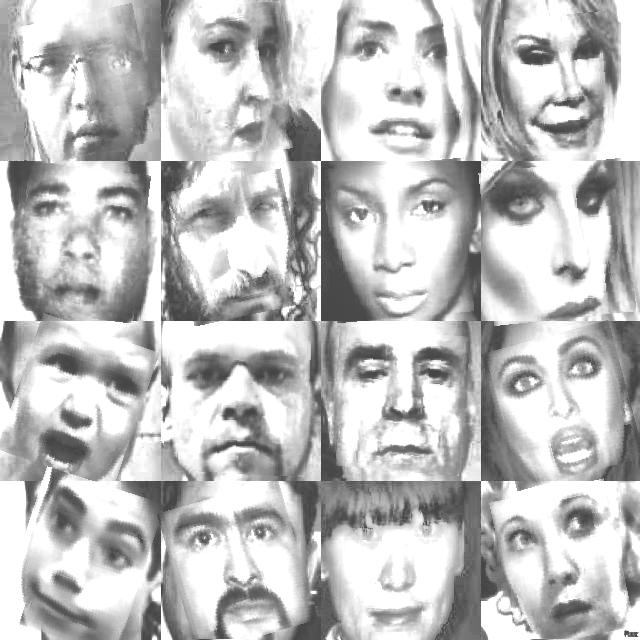angry: (482, 162, 633, 322), (6, 321, 149, 481), (165, 336, 309, 476), (173, 174, 302, 321)
fear: (489, 328, 637, 484), (496, 483, 627, 640)
happy: (8, 473, 153, 640), (507, 13, 615, 157)
neutral: (327, 161, 471, 321), (11, 163, 147, 320), (325, 491, 463, 640), (20, 9, 154, 160), (331, 328, 468, 474), (338, 8, 468, 158)
sad: (166, 486, 309, 640), (192, 3, 290, 155)
